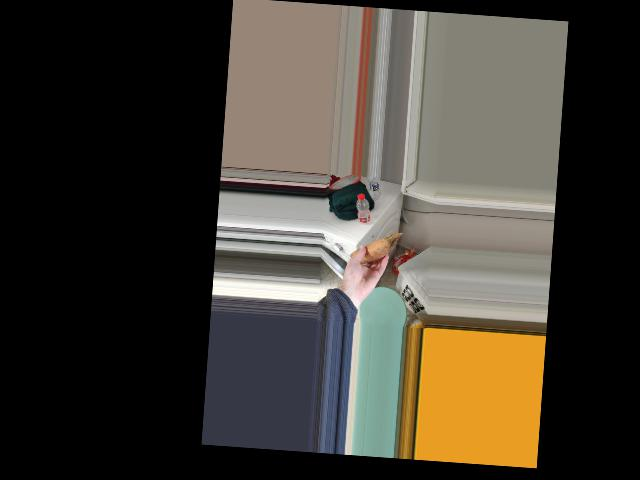sweet_potato: (354, 236, 388, 269)
